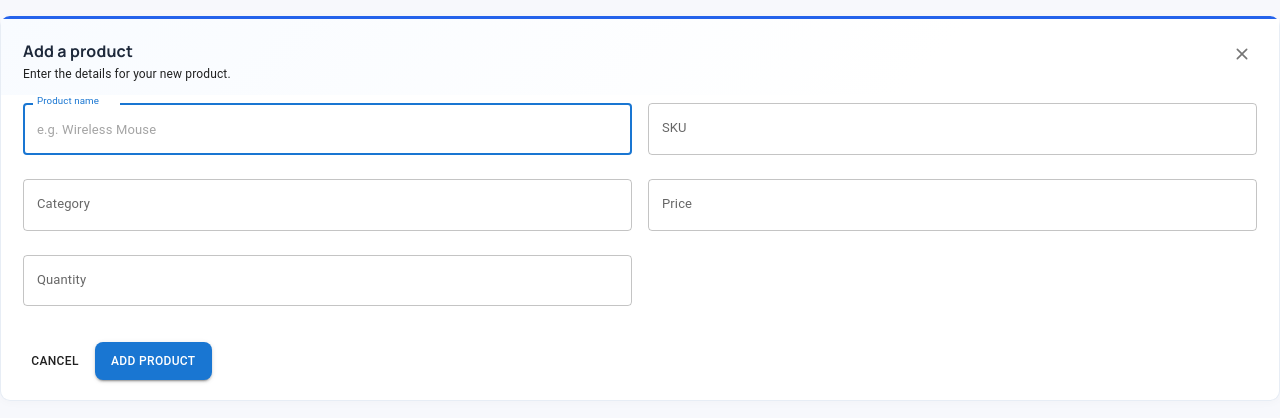
Test case: ProductForm › validates required fields and submits a normalized payload
The width and height of the screenshot is (1280, 418).
Later steps or results of the test are not shown.
Click the button "Add product". click: (153,361)
box: [95,342,212,380]
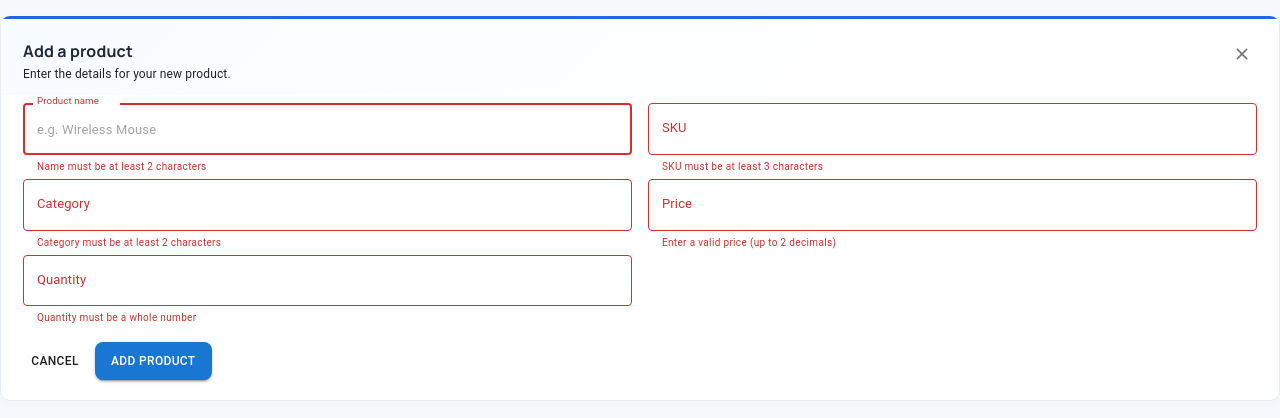
Now the text "SKU must be at least 3 characters" is shown, box [662,161,823,172]
